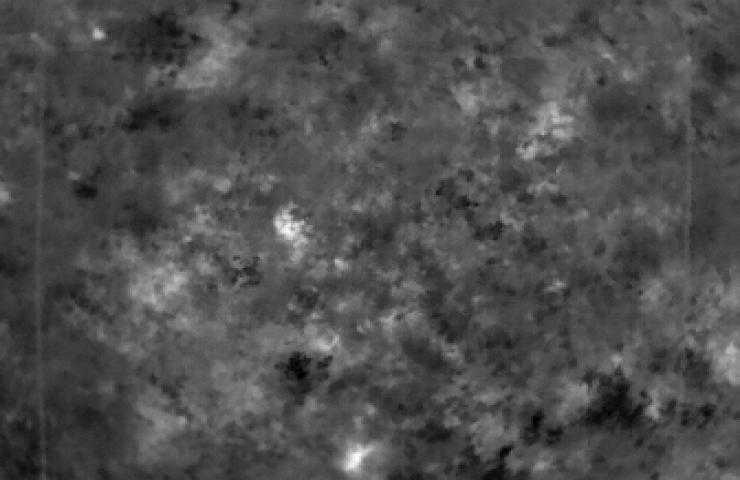landmines: (273, 201, 314, 246)
